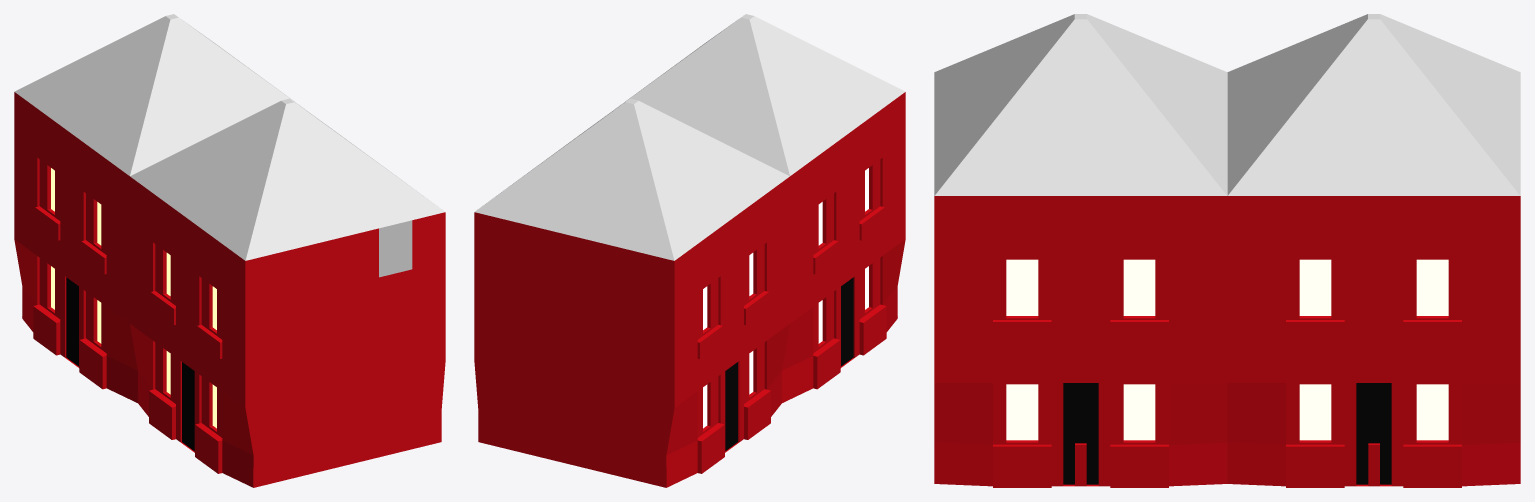
File: two_storey_house_2(shorter).fbx
3 renders of one model, left to right at view 1: azimuth 30°, elevation 25°; view 2: azimuth 150°, elevation 25°; view 3: azimuth 270°, elevation 25°, orthographic. The views are drawn at different scales.
Visible parts, largest first — view 1: Cube; view 2: Cube; view 3: Cube.
Part boxes in pixels (box(x1,y1,x2,y2)): Cube: box(14, 14, 445, 487); Cube: box(474, 14, 905, 487); Cube: box(934, 14, 1520, 487).
Bounding box in the file's own units: 19.95 × 29.63 × 38.6.
